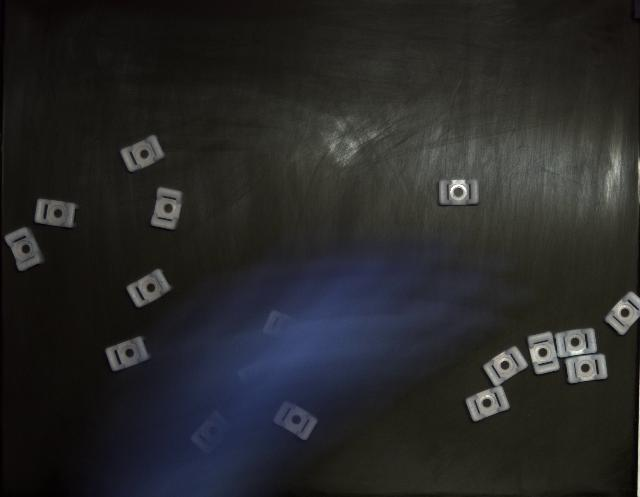first_side: (126, 269, 172, 308), (484, 346, 528, 386), (5, 228, 44, 271), (120, 135, 165, 172), (605, 292, 640, 335), (105, 338, 149, 371), (466, 388, 509, 421), (528, 331, 560, 375), (35, 199, 79, 229), (151, 188, 182, 230), (565, 354, 608, 384), (555, 329, 598, 358), (439, 180, 479, 206)
